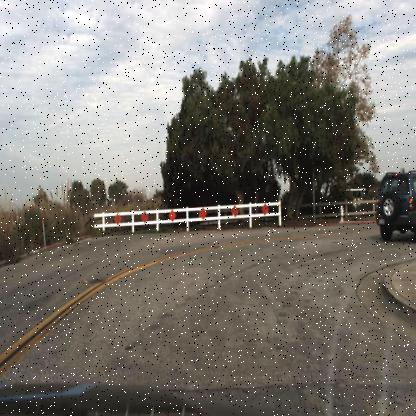car: (375, 170, 416, 241)
